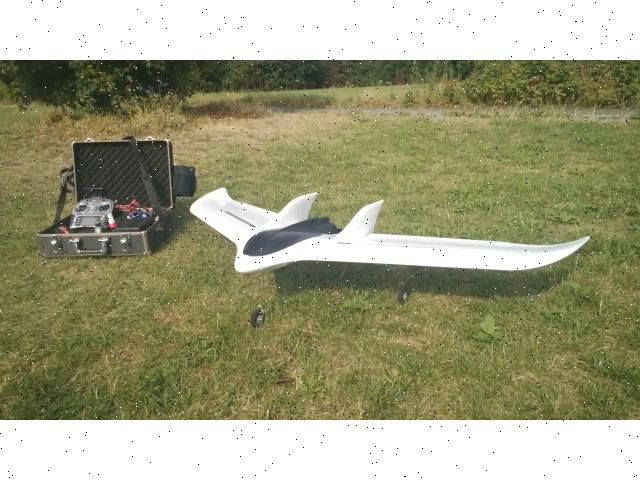Anti-Drone: (175, 169, 605, 305)
